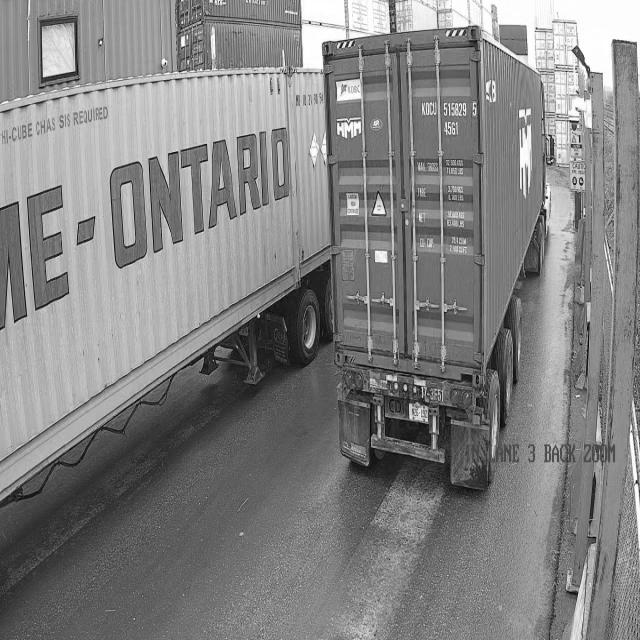container_company_logo: (335, 115, 363, 141)
container_number: (420, 99, 476, 140)
license_plate: (405, 395, 432, 428)
truck_with_container: (0, 68, 330, 502), (324, 25, 550, 489)
